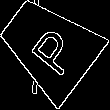P_NW: (19, 16, 78, 77)
